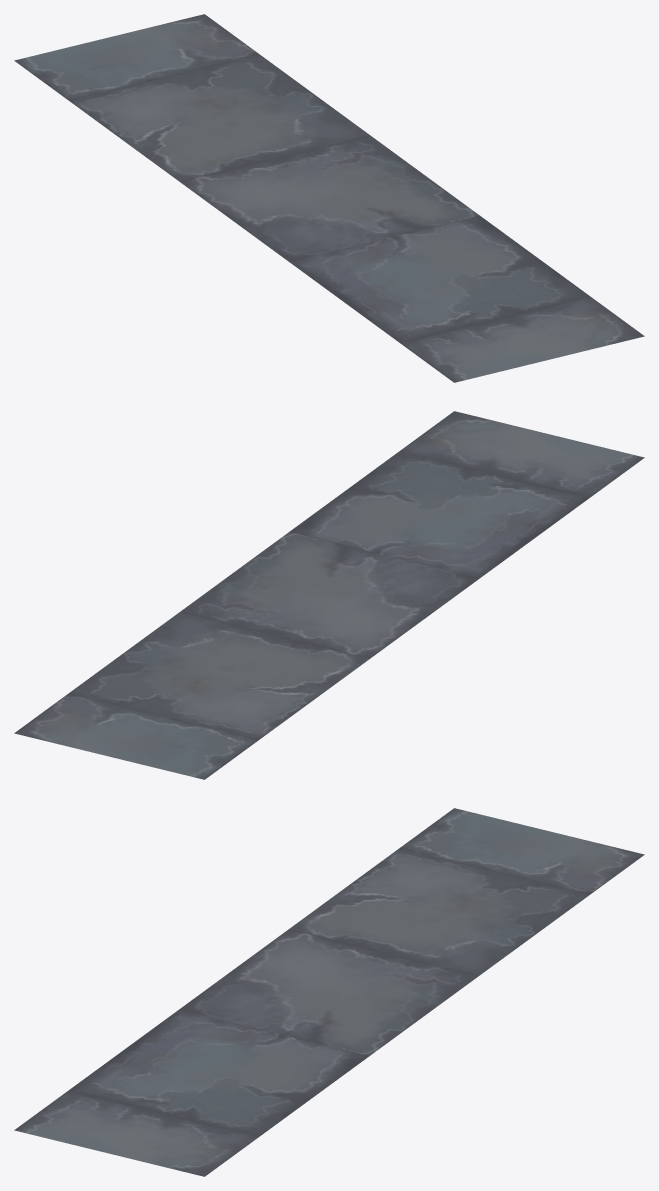
File: Castle Ground X Bright 1x4.fbx
3 views of the same model, one above another, from view 1: azimuth 30°, elevation 25°; view 2: azimuth 150°, elevation 25°; view 3: azimuth 330°, elevation 25° (orthographic).
Parts seen in each view (by area): view 1: Castle Ground X Bright 1x4; view 2: Castle Ground X Bright 1x4; view 3: Castle Ground X Bright 1x4.
Boxes of the visible parts, <box> form: Castle Ground X Bright 1x4: <box>14,14,644,382</box>; Castle Ground X Bright 1x4: <box>14,411,644,779</box>; Castle Ground X Bright 1x4: <box>14,808,644,1176</box>.
Size of the model in its own units: 0.75 by 7.15e-07 by 3.
